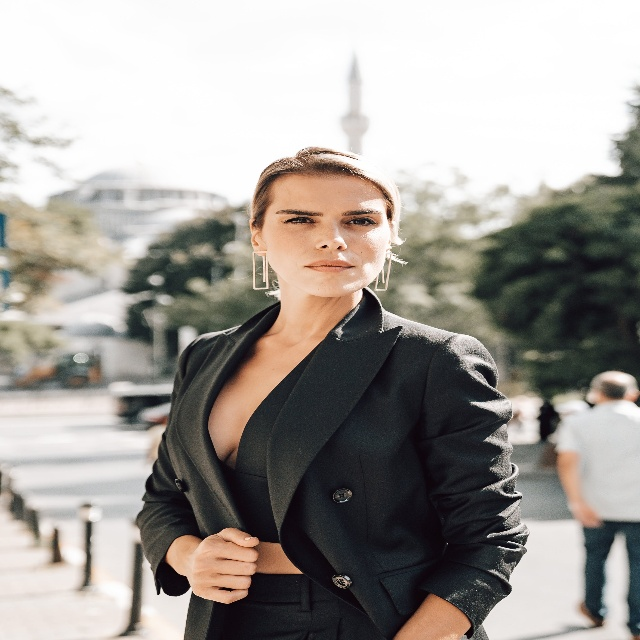Sin_guantes: (187, 526, 261, 605)
